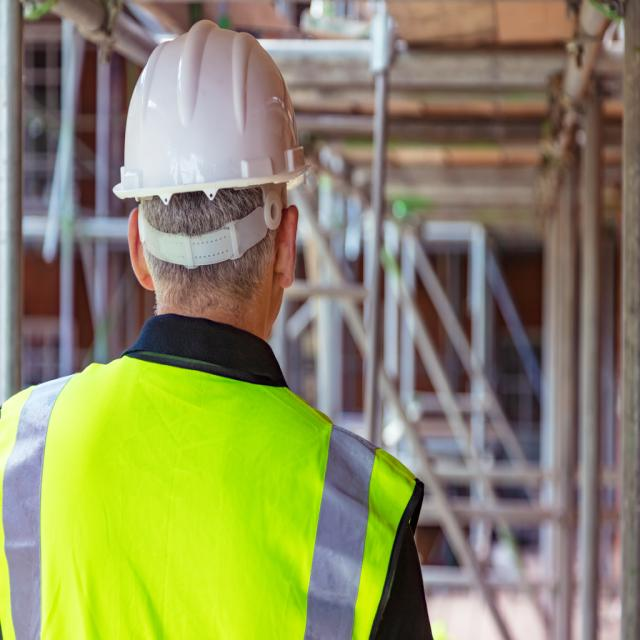helmet: (107, 14, 314, 276)
vest: (0, 344, 428, 640)
